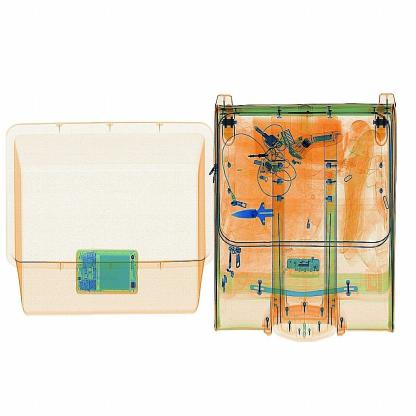gun: (224, 179, 289, 237)
